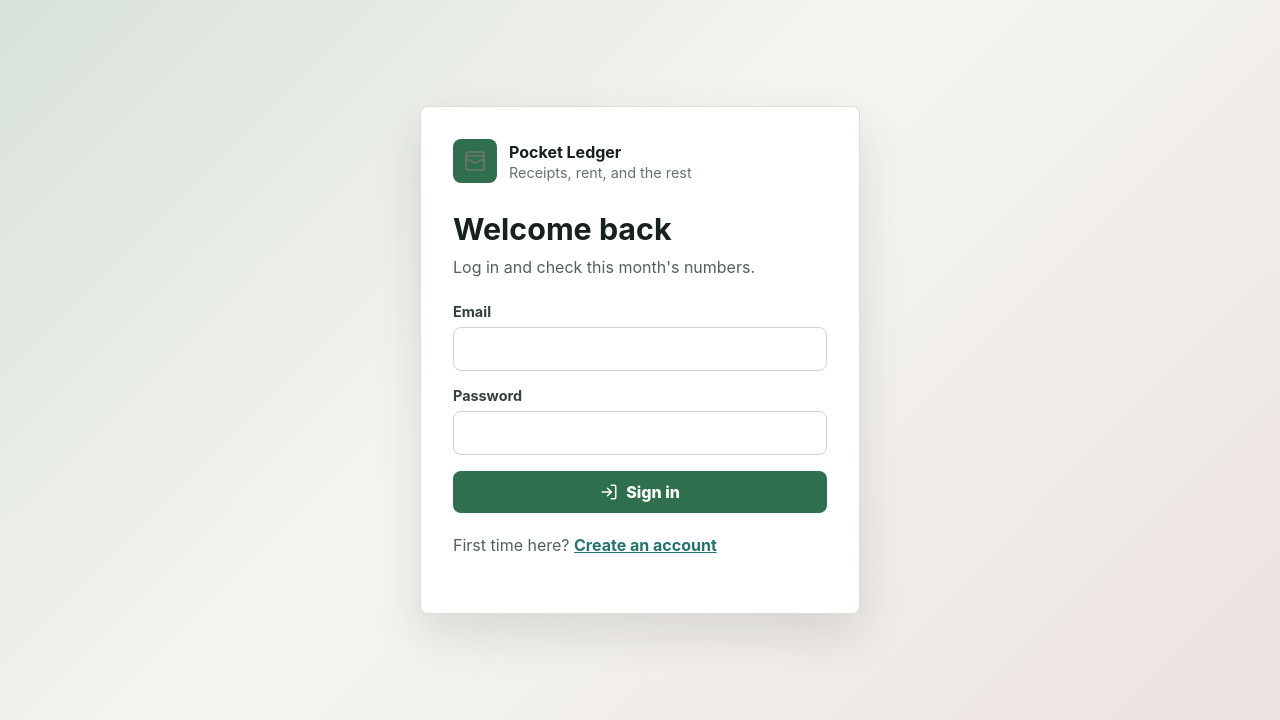
Test case: authentication forms › shows the API message when login fails
Type "max@example.com" into the field labelled "Email". click: (640, 349)
box: 453,327 -> 827,371
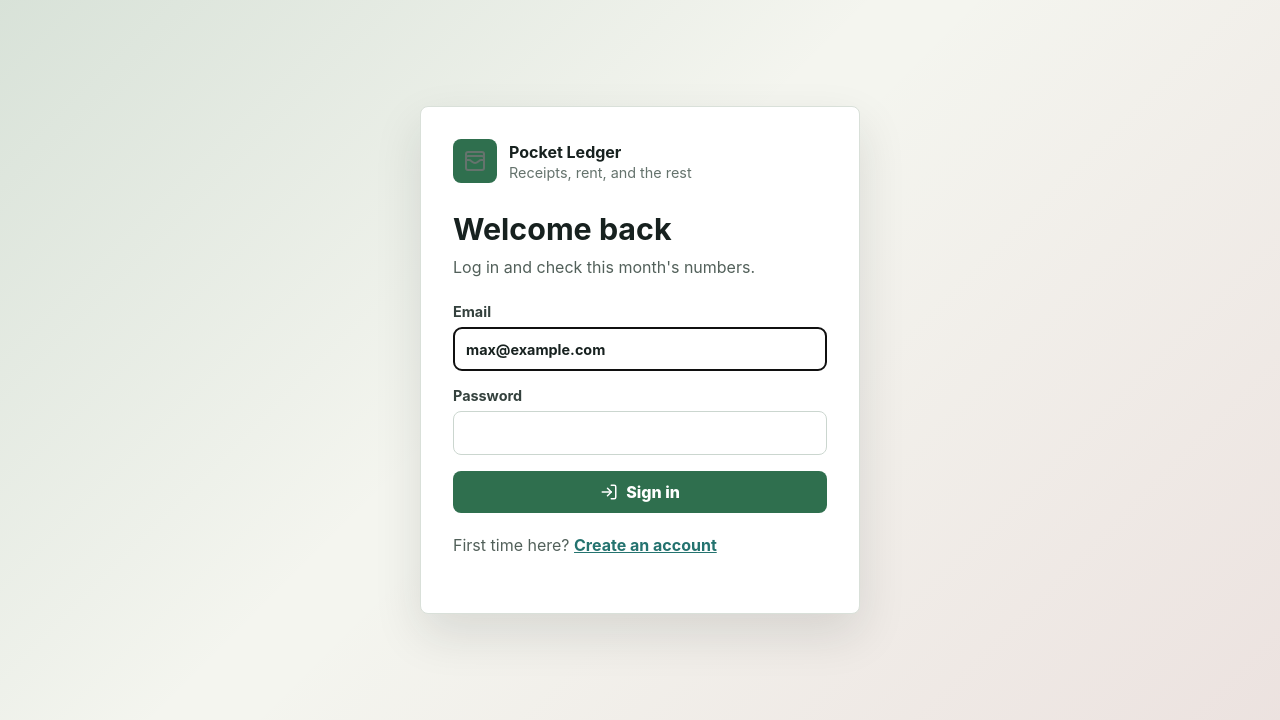
Type "wrong-password" into the password field labelled "Password". click: (640, 433)
box: 453,411 -> 827,455
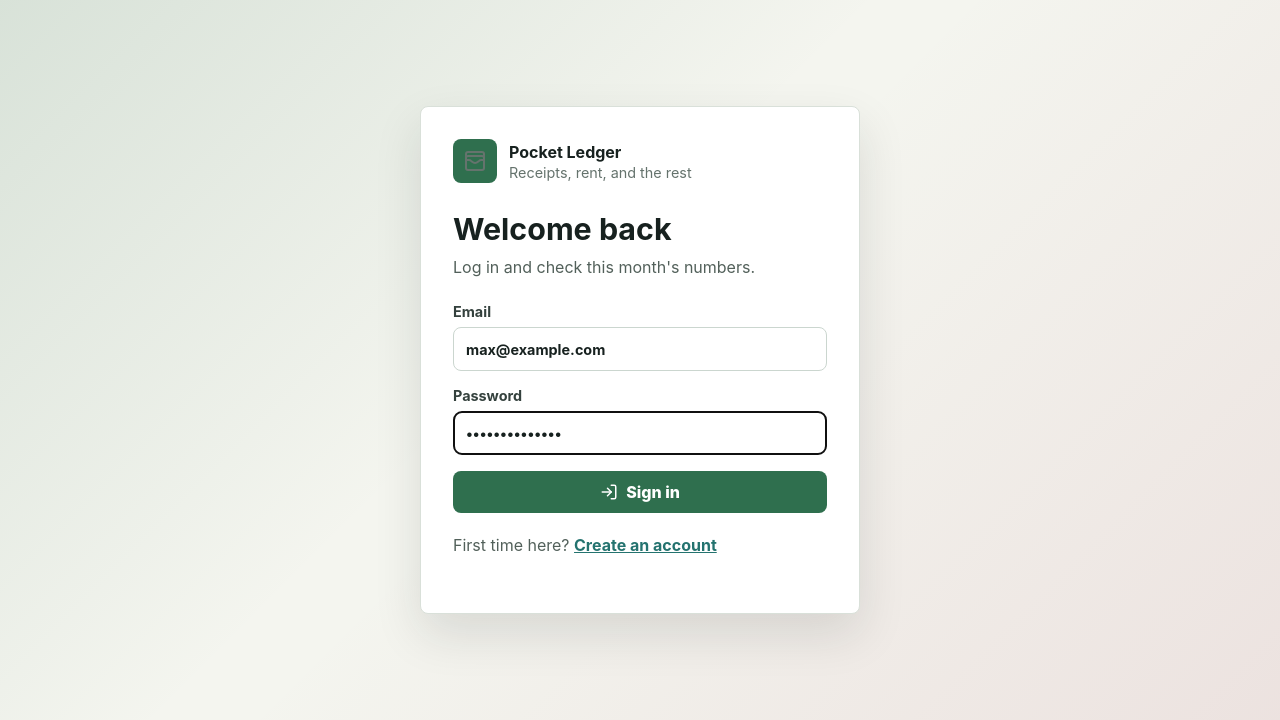
Click the button "Sign in". click: (640, 492)
box: 453,471 -> 827,513
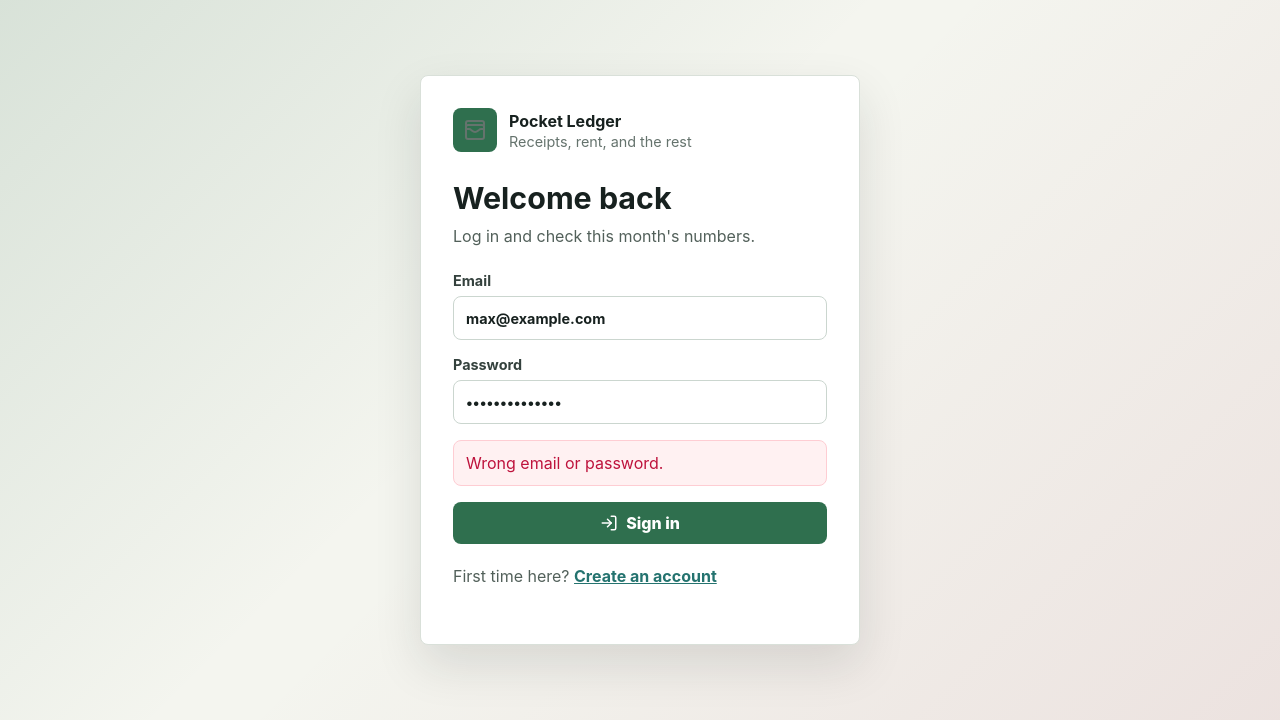
Result: the text "Wrong email or password." is shown at 453,440 -> 827,486
